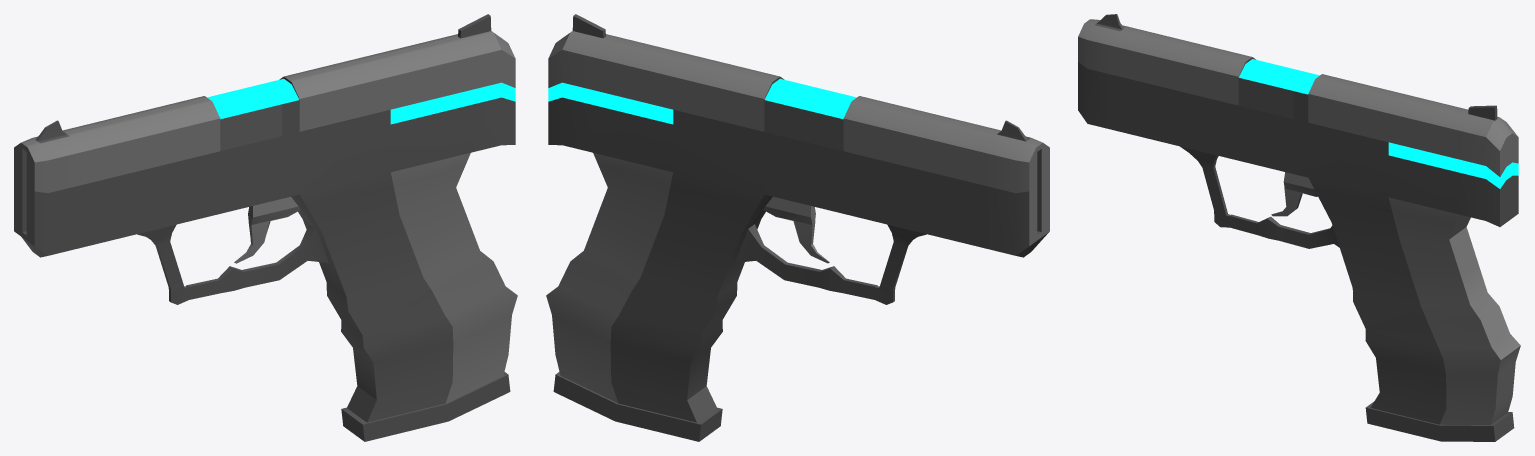
The model's file is Model_Pistol.fbx.
The picture shows the model from 3 angles, left to right: view 1: azimuth 30°, elevation 25°; view 2: azimuth 150°, elevation 25°; view 3: azimuth 330°, elevation 25°; orthographic projection. The views are drawn at different scales.
Parts seen in each view (by area): view 1: Pistol; view 2: Pistol; view 3: Pistol.
Part boxes in pixels (x1,y1,x2,y2): Pistol: [14, 14, 517, 441]; Pistol: [546, 14, 1049, 441]; Pistol: [1078, 14, 1520, 441].
Bounding box in the file's own units: 86.23 × 65.99 × 7.27.
